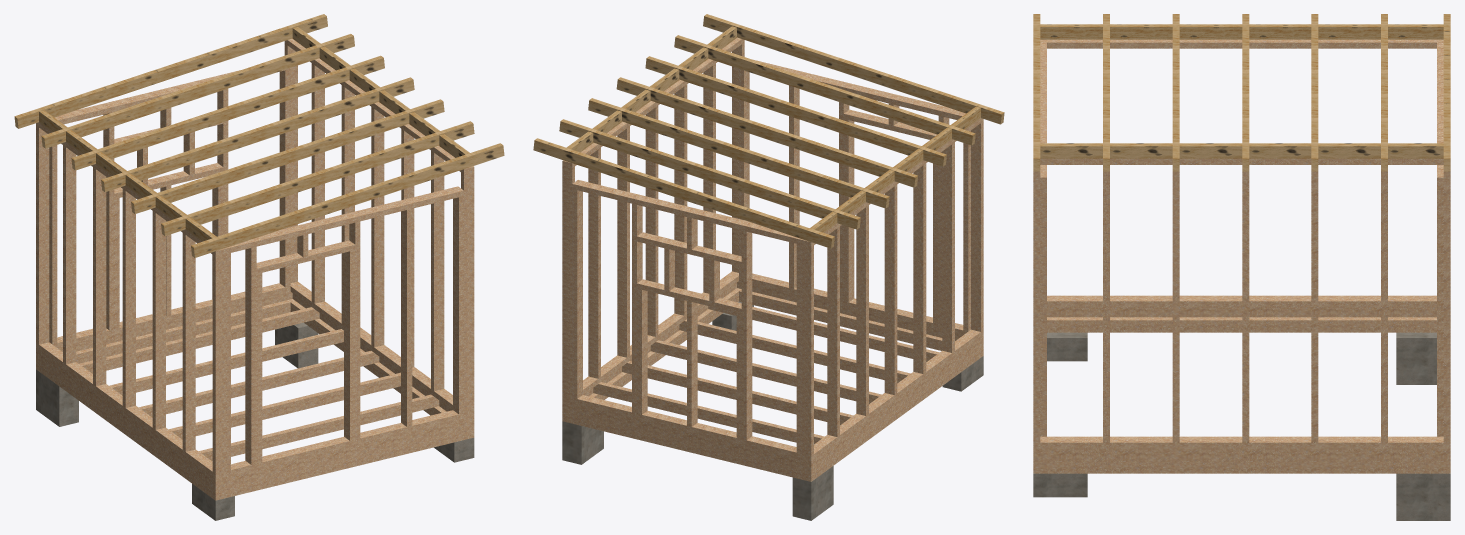
The model's file is SM_Cabin.fbx.
3 renders of one model, left to right at view 1: azimuth 30°, elevation 25°; view 2: azimuth 150°, elevation 25°; view 3: azimuth 270°, elevation 25°, orthographic. The views are drawn at different scales.
Visible parts, largest first — view 1: SM_Cabin; view 2: SM_Cabin; view 3: SM_Cabin.
Part boxes in pixels (left/top/right/bottom): SM_Cabin: left=14, top=14, right=504, bottom=520; SM_Cabin: left=533, top=14, right=1004, bottom=520; SM_Cabin: left=1033, top=14, right=1450, bottom=520.
Bounding box in the file's own units: 300 × 301 × 300.
